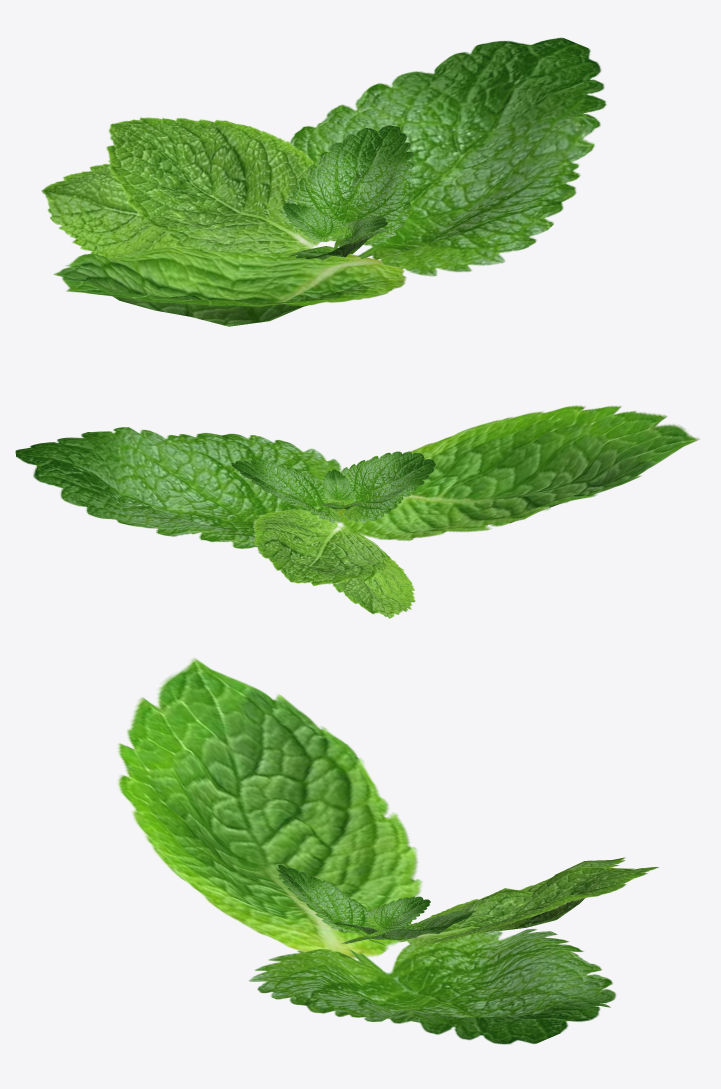
The model's file is mint.glb.
3 renders of one model, top to bottom at view 1: azimuth 30°, elevation 25°; view 2: azimuth 150°, elevation 25°; view 3: azimuth 270°, elevation 25°, orthographic. The views are drawn at different scales.
Visible parts, largest first — view 1: myata2_4_myata2_0, myata_myata_0, myata3_myata3_0; view 2: myata2_4_myata2_0, myata3_myata3_0, myata_myata_0; view 3: myata3_myata3_0, myata2_4_myata2_0, myata_myata_0.
Boxes of the visible parts, left/top/right/bottom form: myata2_4_myata2_0: left=282, top=37, right=606, bottom=276; myata_myata_0: left=41, top=117, right=342, bottom=257; myata3_myata3_0: left=53, top=246, right=406, bottom=326; myata2_4_myata2_0: left=15, top=427, right=435, bottom=553; myata3_myata3_0: left=337, top=405, right=699, bottom=540; myata_myata_0: left=253, top=506, right=415, bottom=618; myata3_myata3_0: left=117, top=657, right=422, bottom=958; myata2_4_myata2_0: left=248, top=865, right=616, bottom=1044; myata_myata_0: left=396, top=857, right=658, bottom=946.
Size of the model in its own units: 0.05 by 0.0104 by 0.0401.
3 materials, 3 textured.
